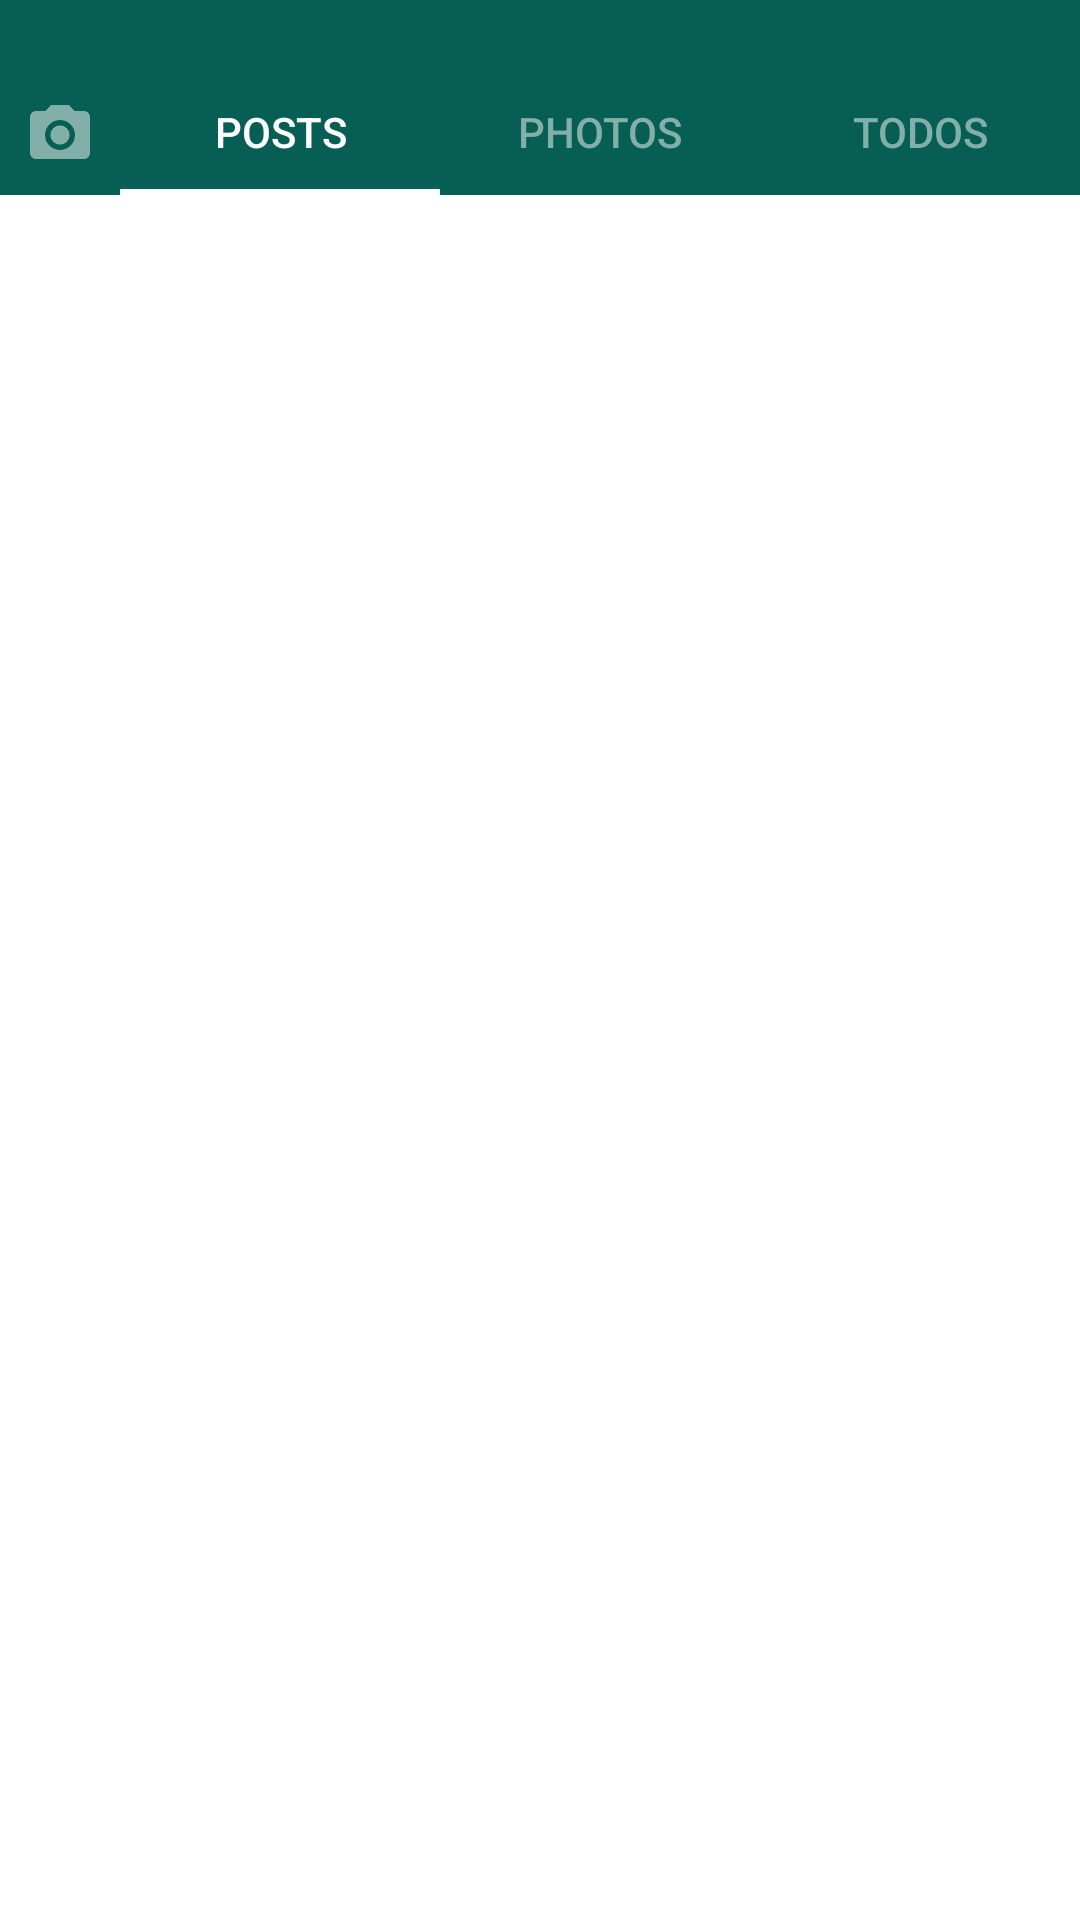

Screen size 1080px x 1920px. Icon name, then its center in pixels as point (x, y):
camera: point (60, 132)
